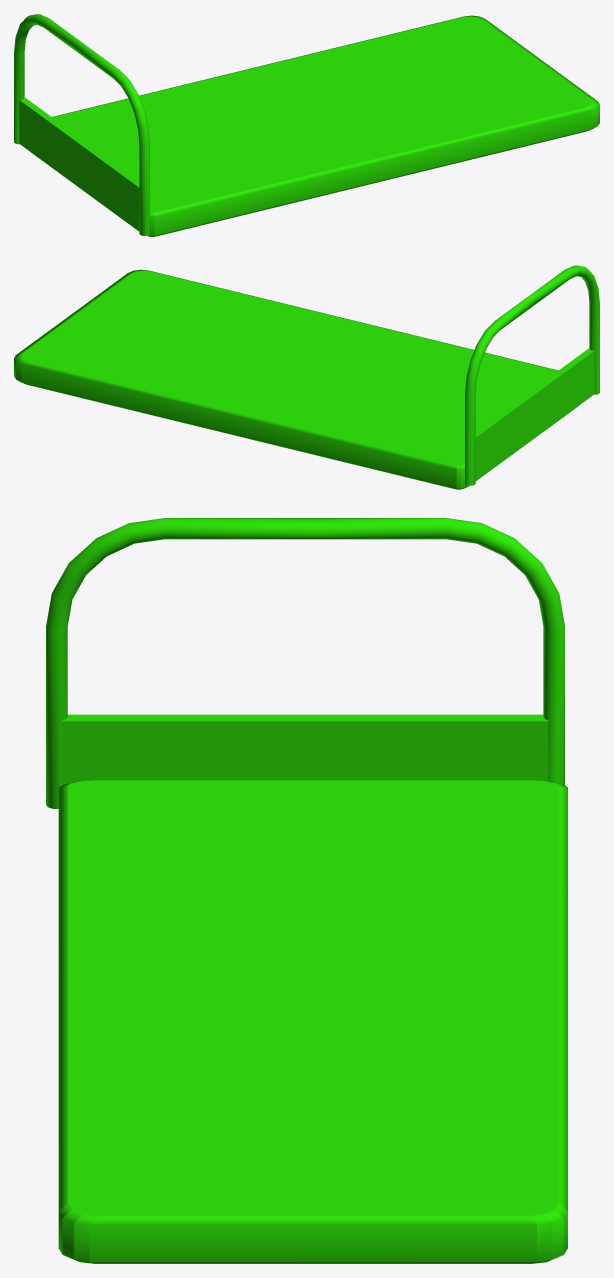
Rendered from Bedspring_02_Lod1.fbx.
The picture shows the model from 3 angles, top to bottom: view 1: azimuth 30°, elevation 25°; view 2: azimuth 150°, elevation 25°; view 3: azimuth 270°, elevation 25°; orthographic projection. The views are drawn at different scales.
Parts seen in each view (by area): view 1: Bedspring_02_Lod1; view 2: Bedspring_02_Lod1; view 3: Bedspring_02_Lod1.
Part boxes in pixels (x1,y1,x2,y2): Bedspring_02_Lod1: (14,14,599,236); Bedspring_02_Lod1: (14,265,599,489); Bedspring_02_Lod1: (46,518,567,1263).
Size of the model in its own units: 207 by 64.35 by 101.
